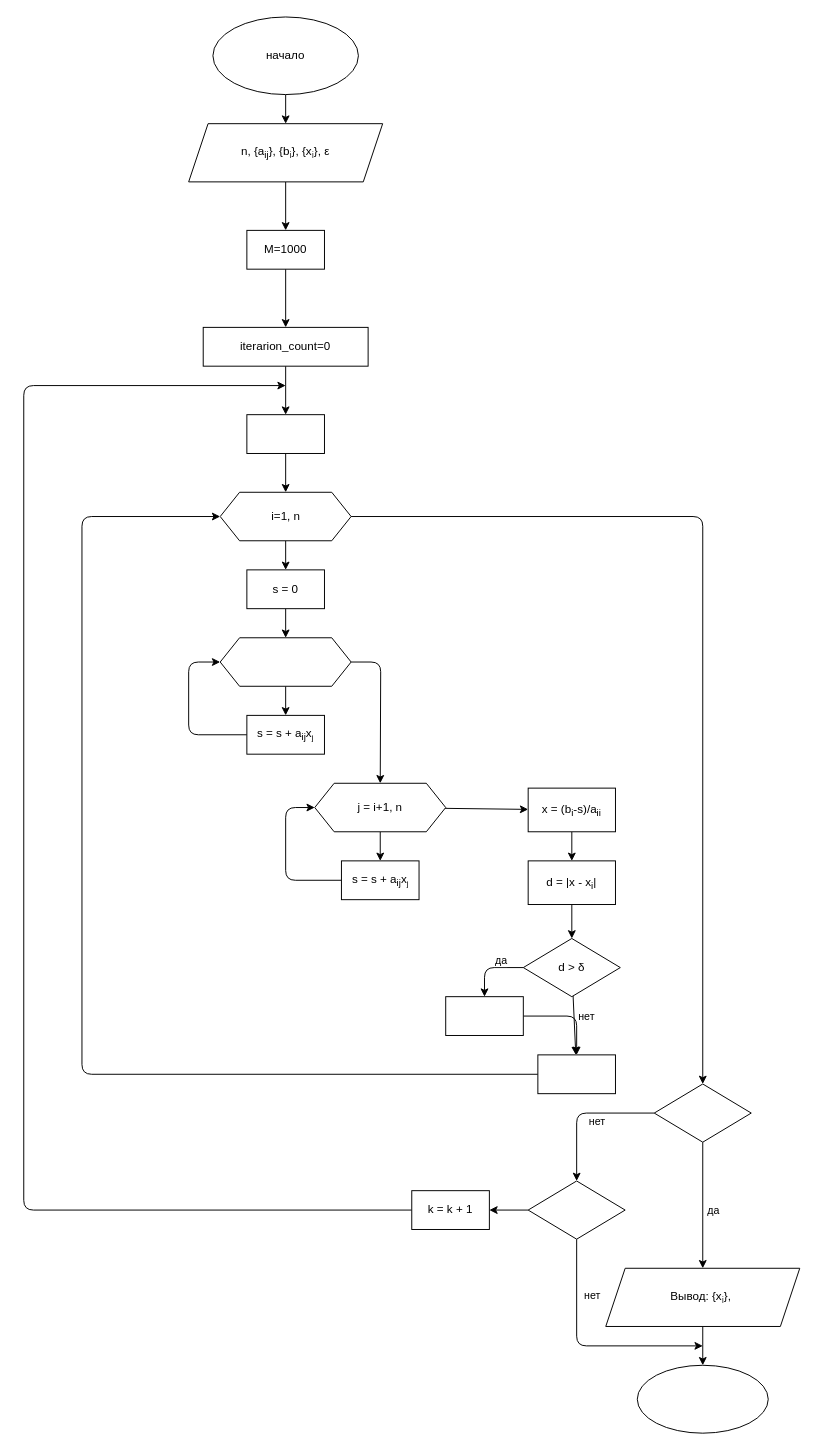
This 817x1450 diagram has some shape labels left out. Here are the shapes that lost their labels. From the top down, the centre of each, then its label:
At point (285, 433): "δ = 0".
At point (285, 661): "j = 1, i-1".
At point (484, 1015): "δ = d".
At point (576, 1074): "x i =x".
At point (702, 1112): "δ < ε".
At point (576, 1209): "k<M".
At point (702, 1398): "конец".
